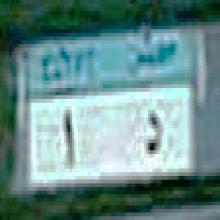1: (65, 107, 74, 167)
daal: (142, 107, 164, 155)
